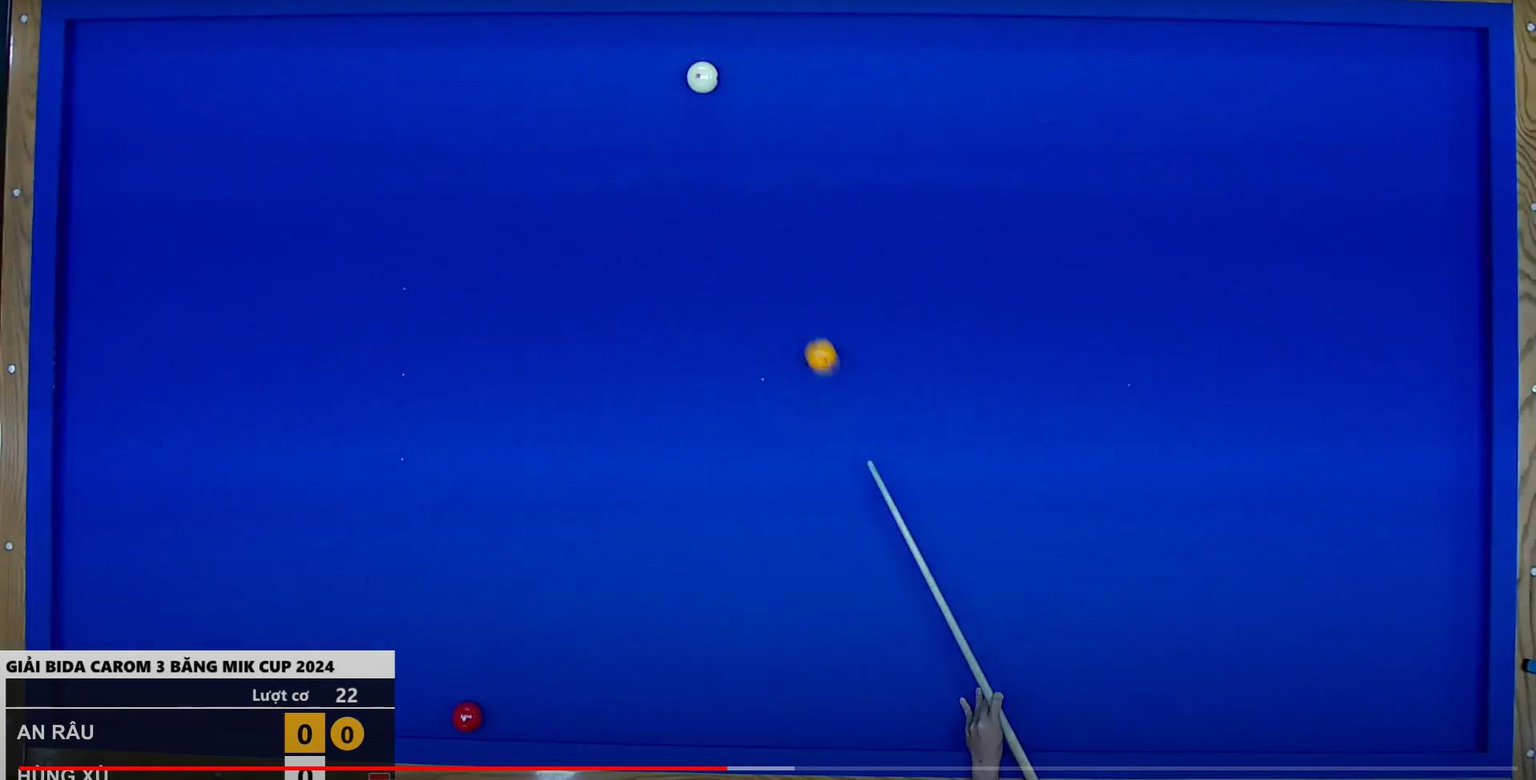red ball: (451, 696, 489, 738)
white ball: (680, 53, 727, 106)
yellow ball: (799, 332, 849, 383)
